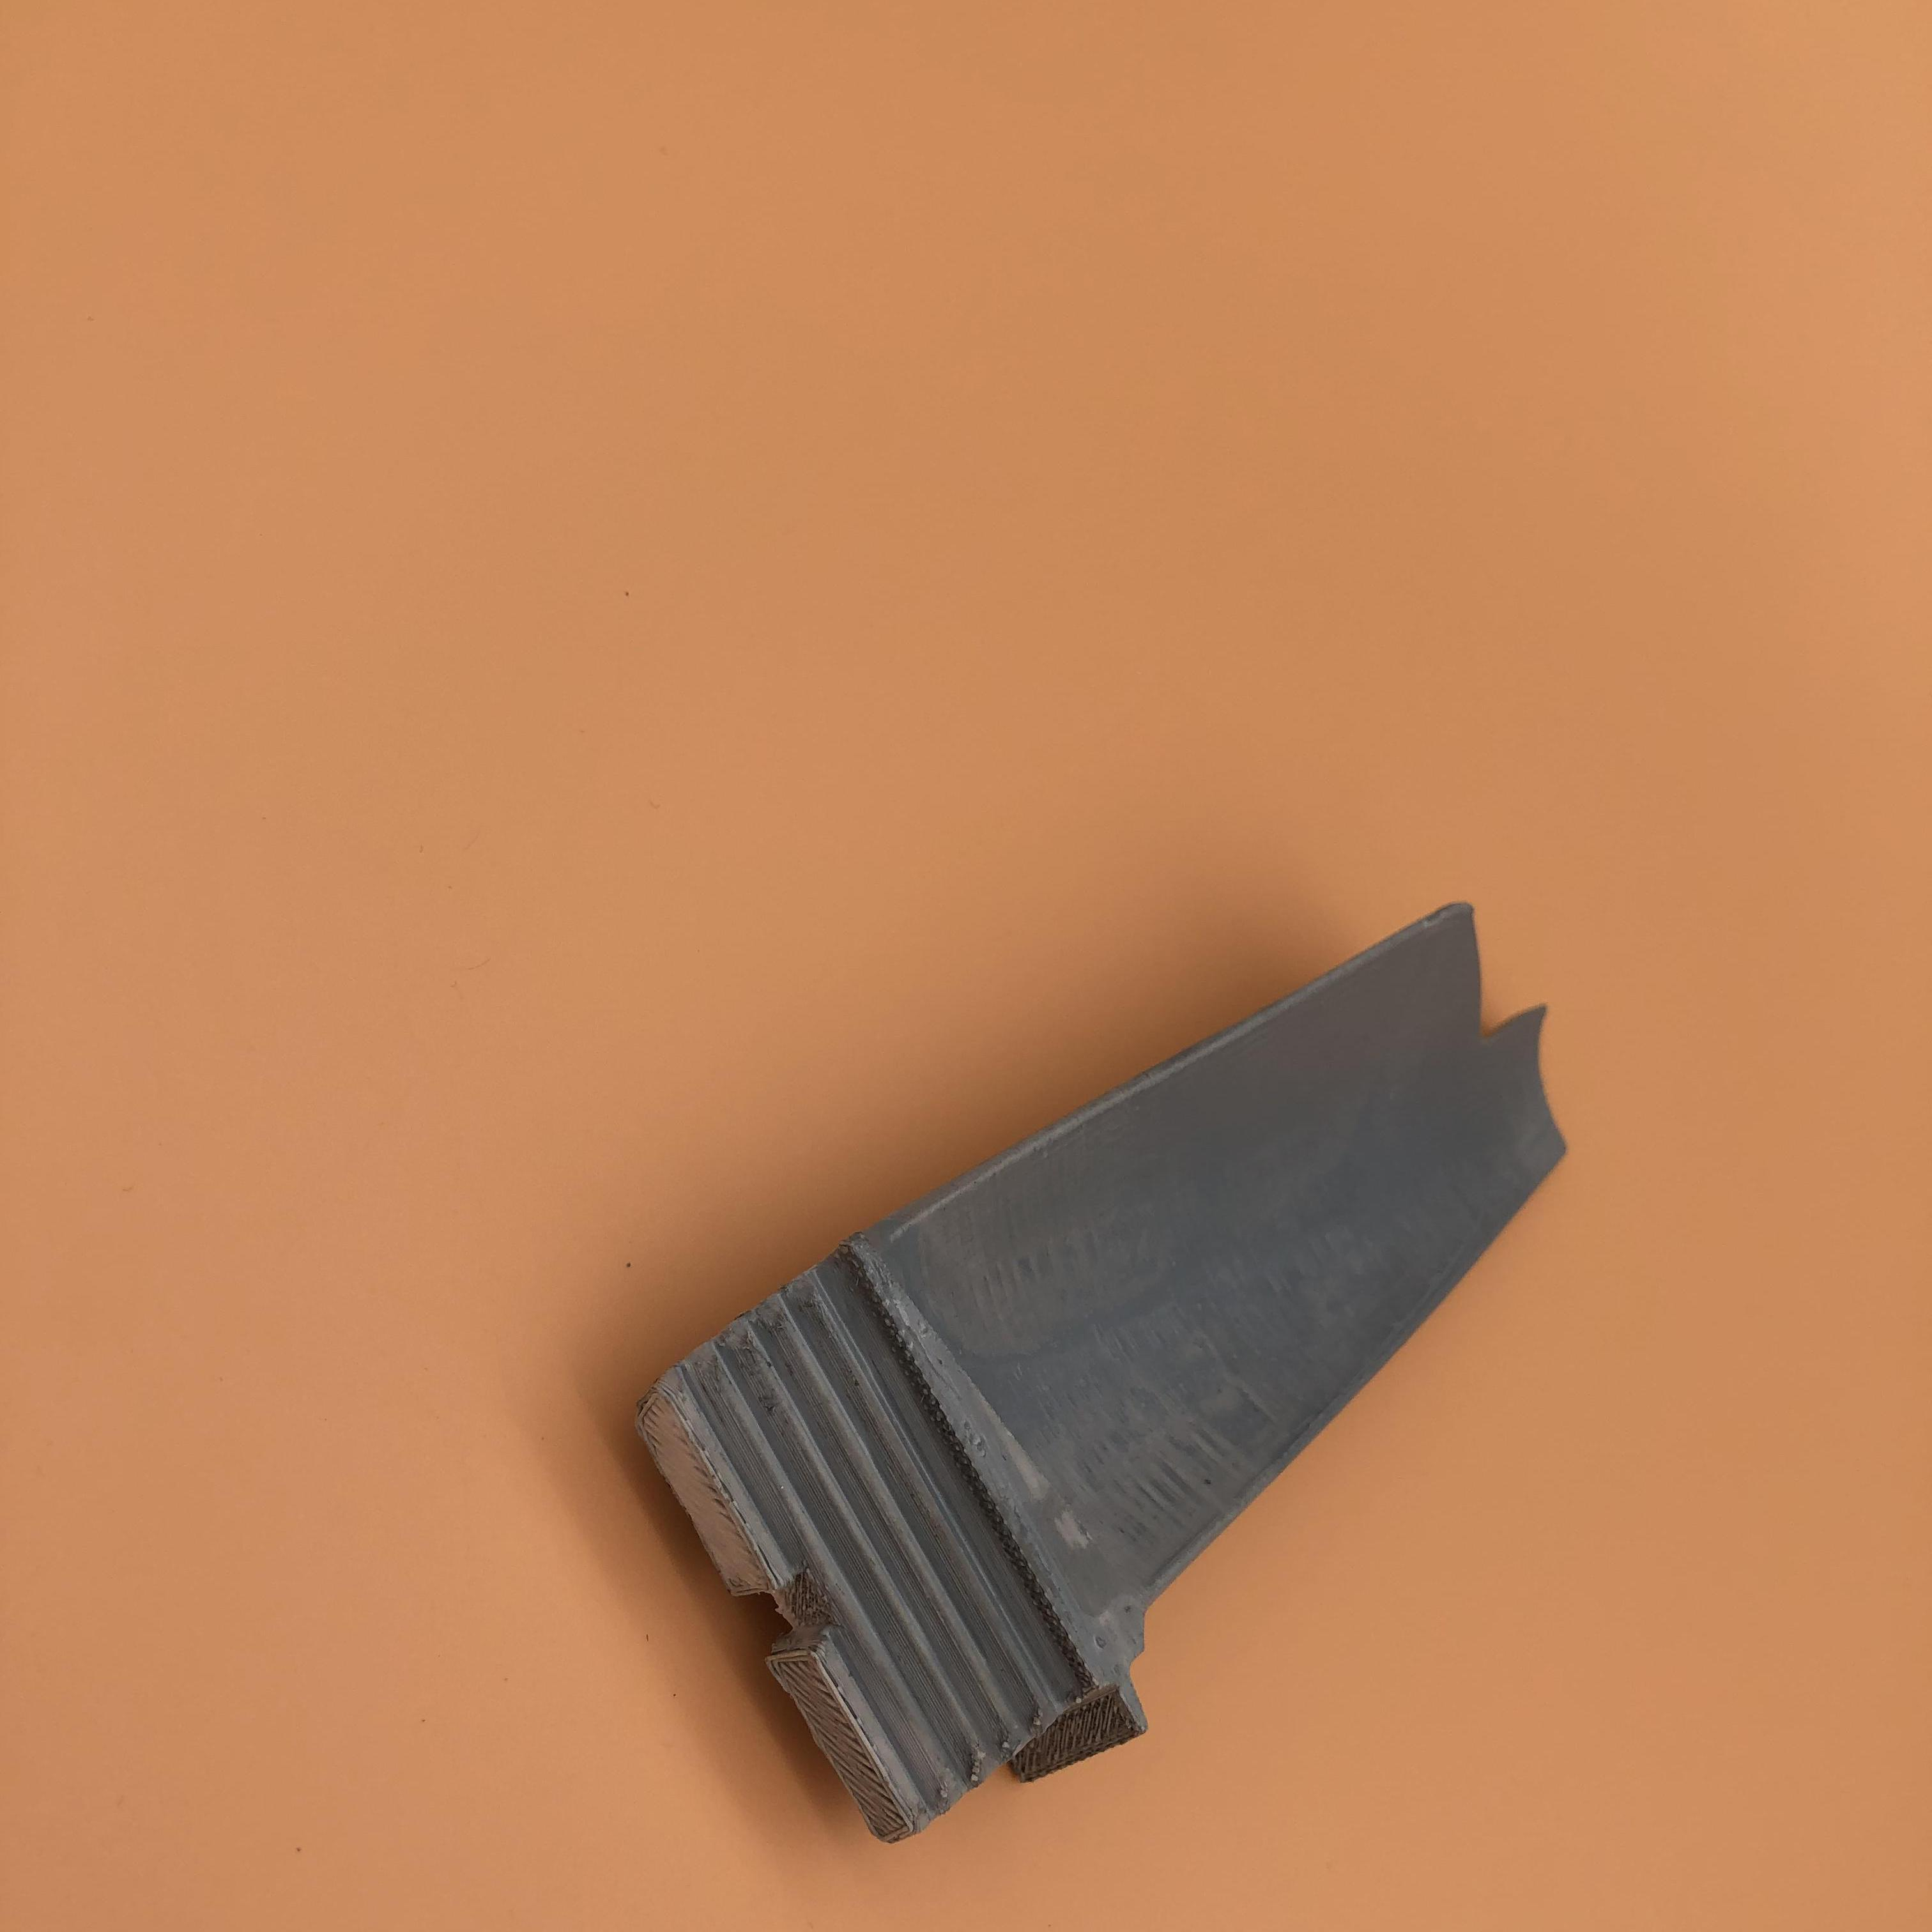fracture: (1458, 909, 1539, 1069)
